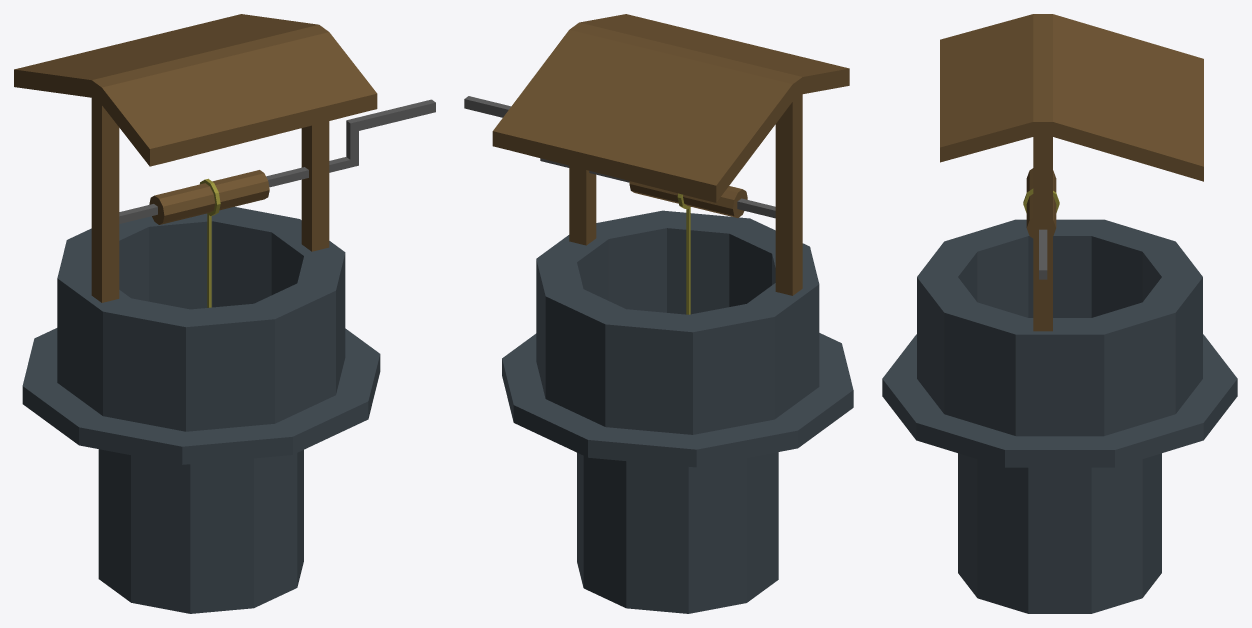
Rendered from pit.fbx.
The picture shows the model from 3 angles, left to right: view 1: azimuth 30°, elevation 25°; view 2: azimuth 150°, elevation 25°; view 3: azimuth 270°, elevation 25°; orthographic projection. The views are drawn at different scales.
Parts seen in each view (by area): view 1: Pit; view 2: Pit; view 3: Pit.
Boxes of the visible parts, left/top/right/bottom form: Pit: left=14, top=14, right=435, bottom=613; Pit: left=464, top=14, right=853, bottom=613; Pit: left=882, top=14, right=1237, bottom=613.
Bounding box in the file's own units: 347 × 461 × 294.
